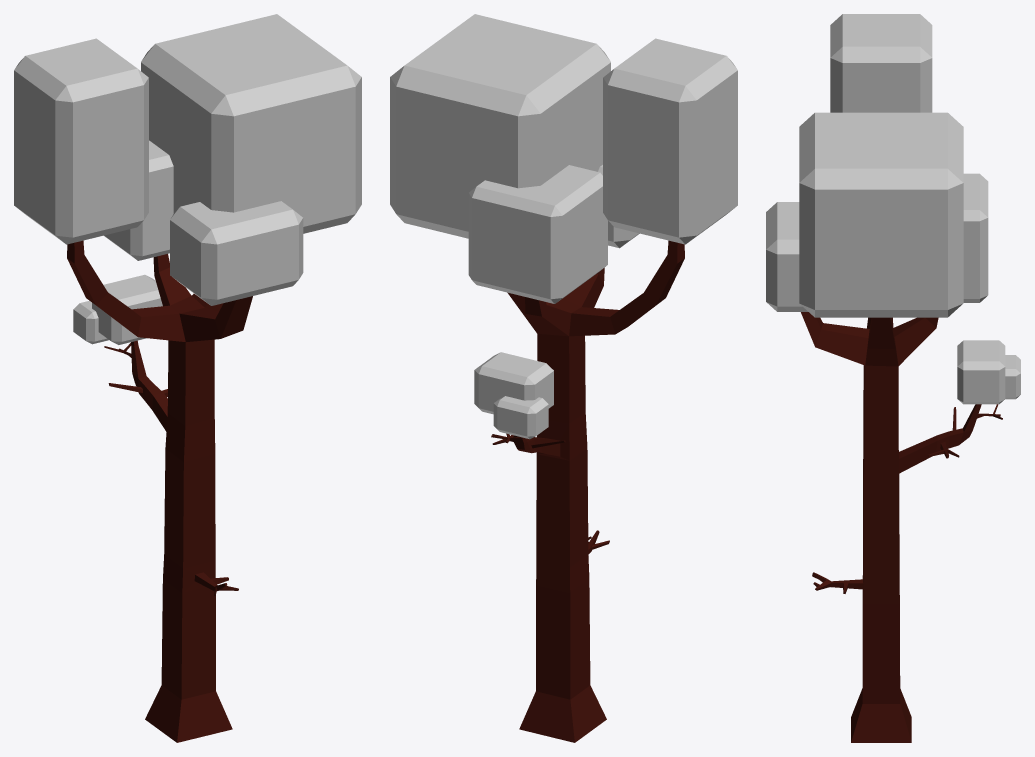
Rendered from arbol_7.obj.
The picture shows the model from 3 angles, left to right: view 1: azimuth 30°, elevation 25°; view 2: azimuth 150°, elevation 25°; view 3: azimuth 270°, elevation 25°; orthographic projection. The views are drawn at different scales.
Visible parts, largest first — view 1: polySurface1; view 2: polySurface1; view 3: polySurface1.
Boxes of the visible parts, x1,y1,x2,y2 form: polySurface1: (14,14,361,742); polySurface1: (390,14,737,742); polySurface1: (766,14,1020,742).
Bounding box in the file's own units: 2.13 × 4.8 × 1.7.
